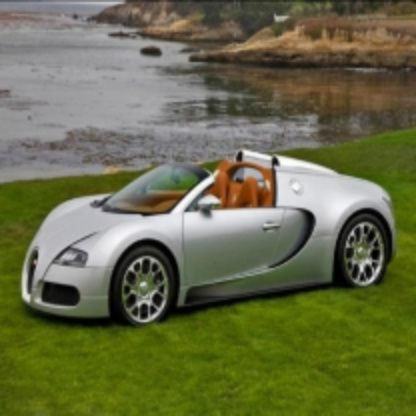Vehicle: (21, 152, 396, 329)
